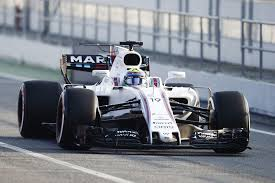FormulaOneCar: (15, 36, 259, 163)
